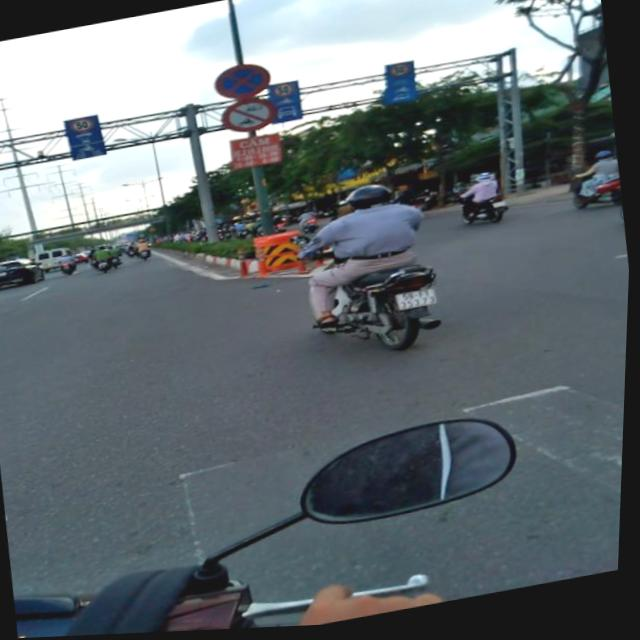Cam dung xe va do xe: (212, 61, 275, 106)
Toc do toi da cho phep: (69, 116, 97, 135), (273, 84, 296, 101), (389, 66, 411, 82)
